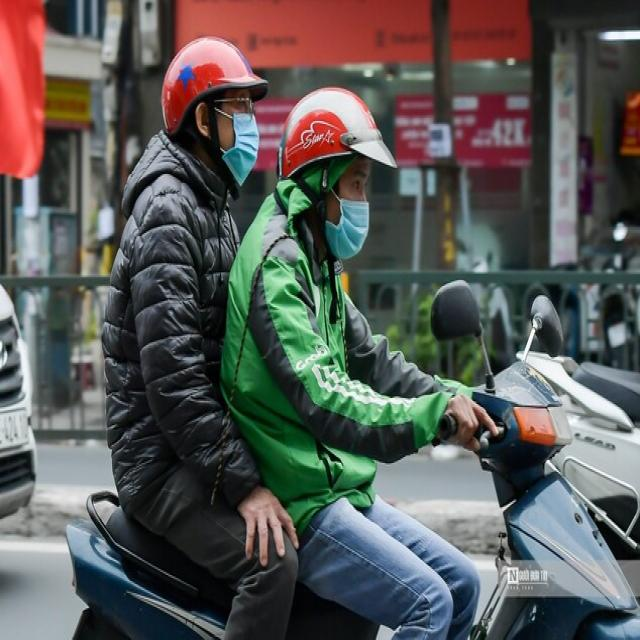helmet: (160, 33, 270, 139), (277, 86, 400, 180)
